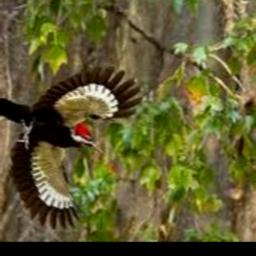Woodpecker: (0, 64, 147, 227)
